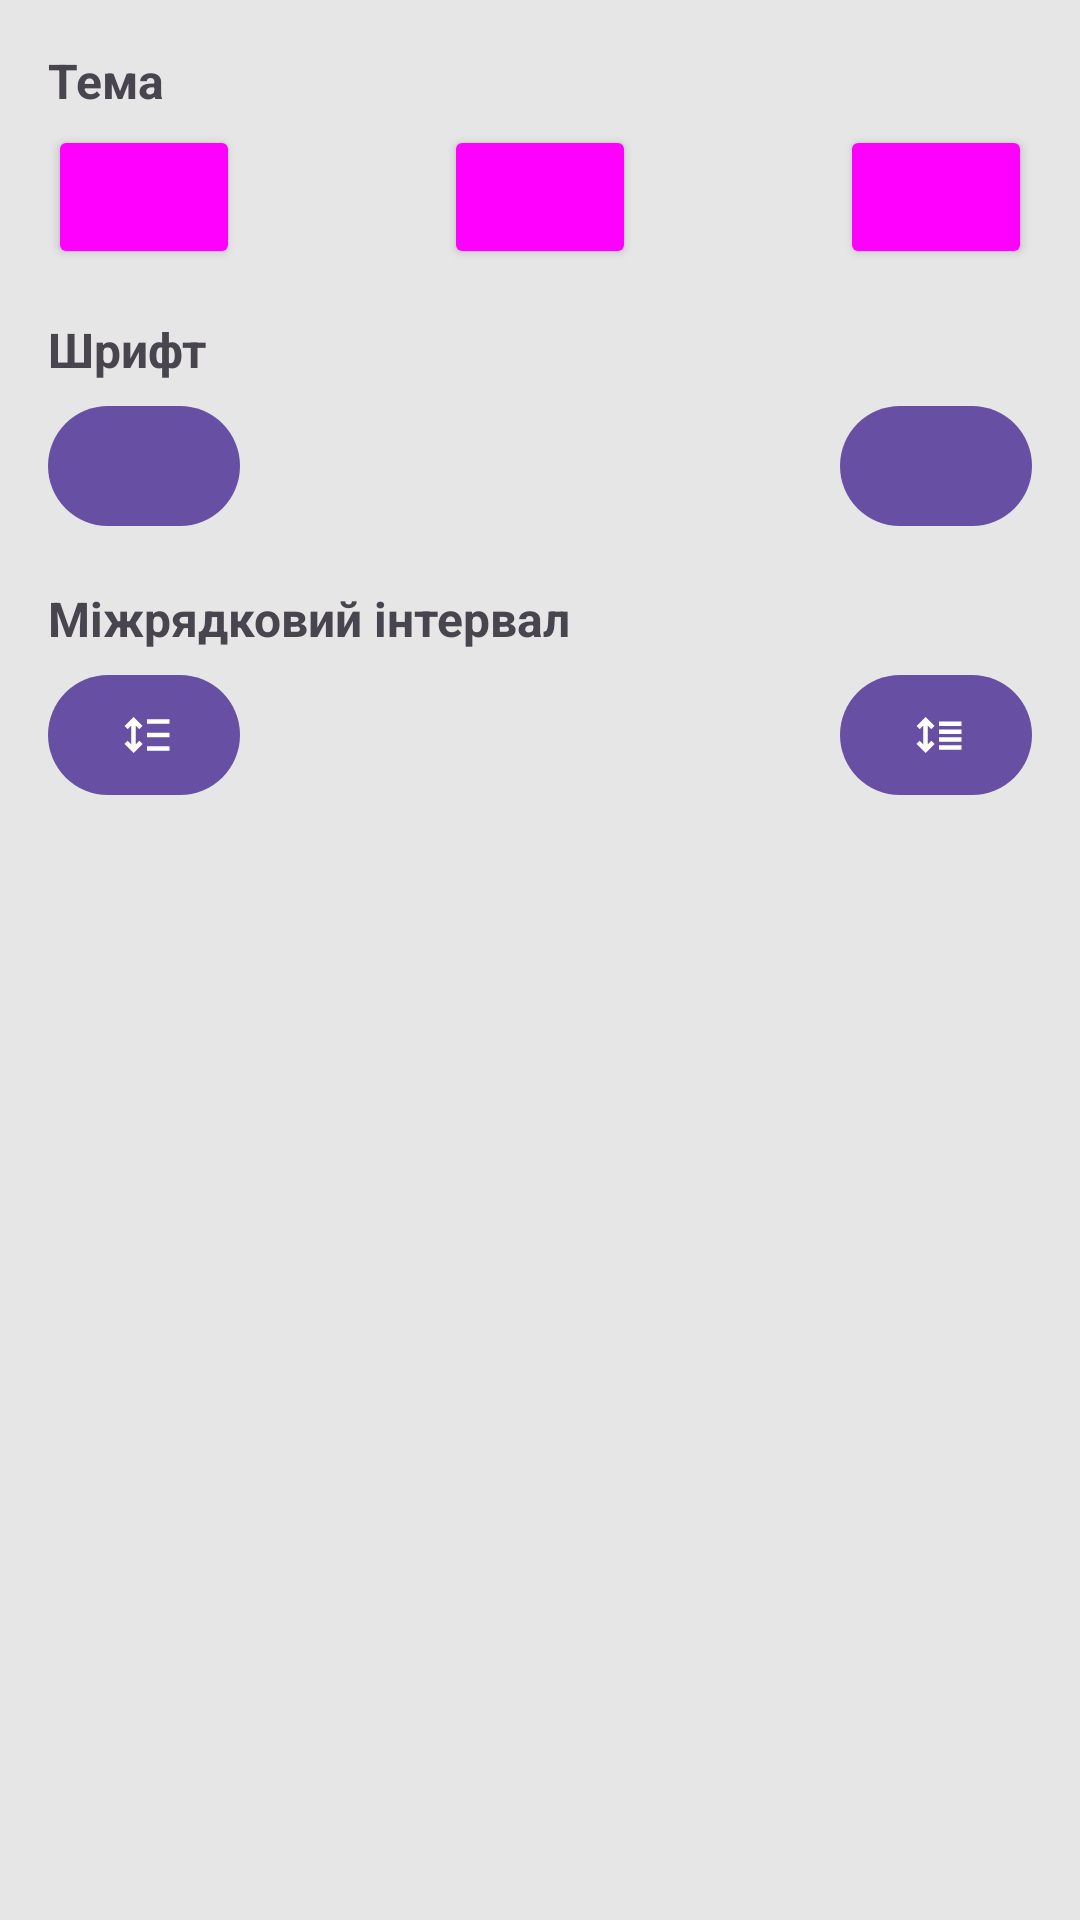

Icon bounding boxes for this 1080px×1920px phone screenshot, format bbox=(x1, y1, x2, y2):
Збільшити міжрядковий інтервал: bbox=(840, 675, 1032, 795)
